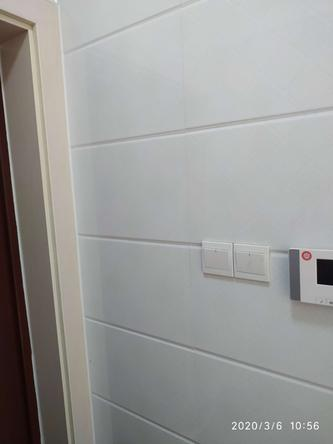switch: (203, 245, 233, 273), (236, 248, 267, 275)
